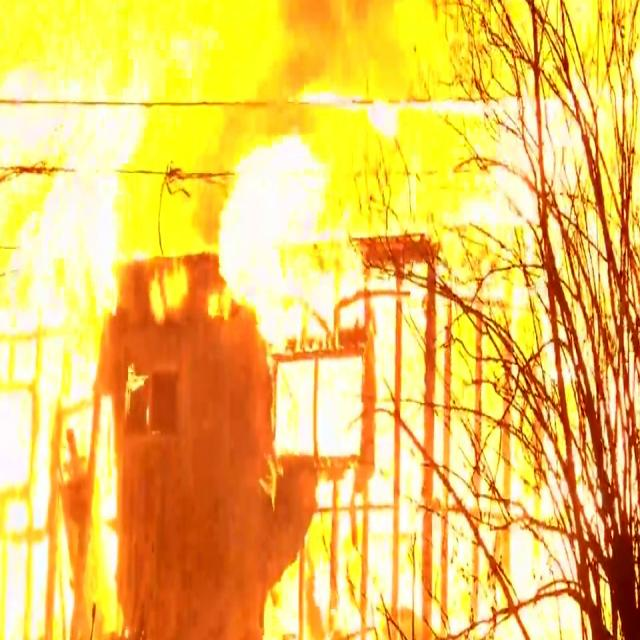fire: (0, 181, 53, 531)
smoke: (270, 0, 403, 133)
